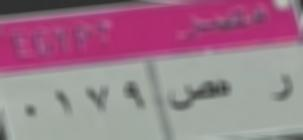0: (22, 100, 38, 124)
1: (52, 86, 75, 123)
7: (84, 83, 112, 122)
9: (121, 77, 147, 115)
haa: (219, 78, 234, 97)
raa: (272, 70, 292, 105)
saad: (163, 79, 215, 113)
